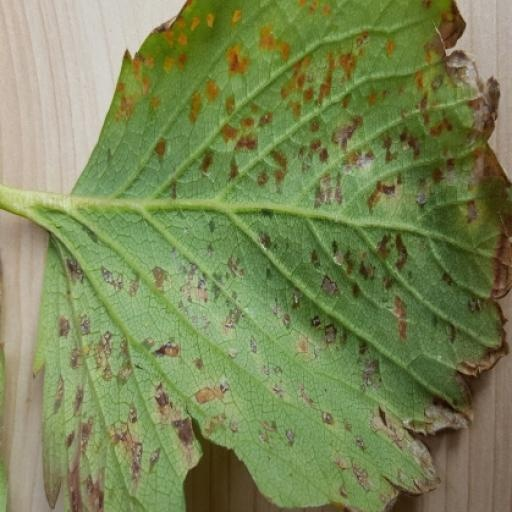Angular Leafspot: (33, 0, 511, 511)
